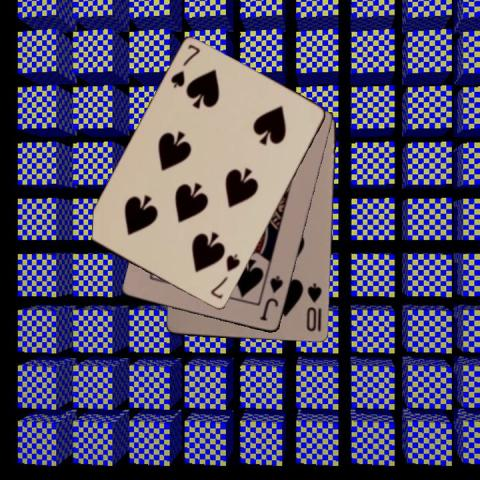10s: (303, 282, 324, 334)
7s: (207, 251, 242, 301), (168, 41, 202, 90)
Js: (256, 272, 284, 322)
